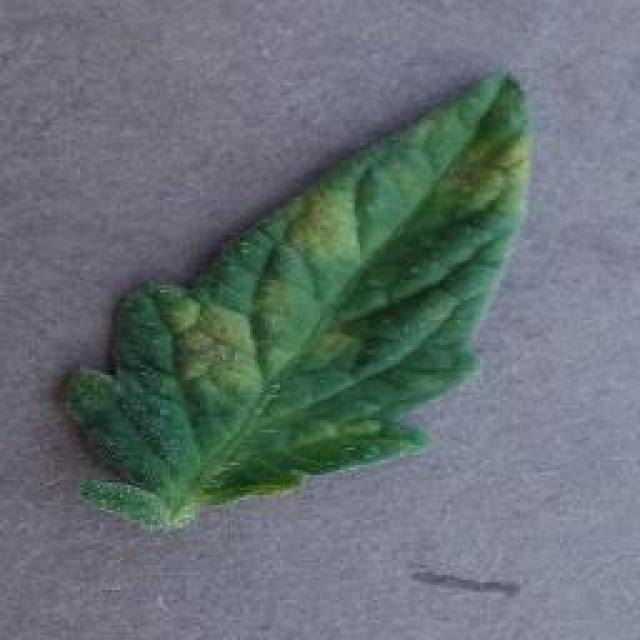Tomato___Leaf_Mold: (68, 72, 525, 522)
